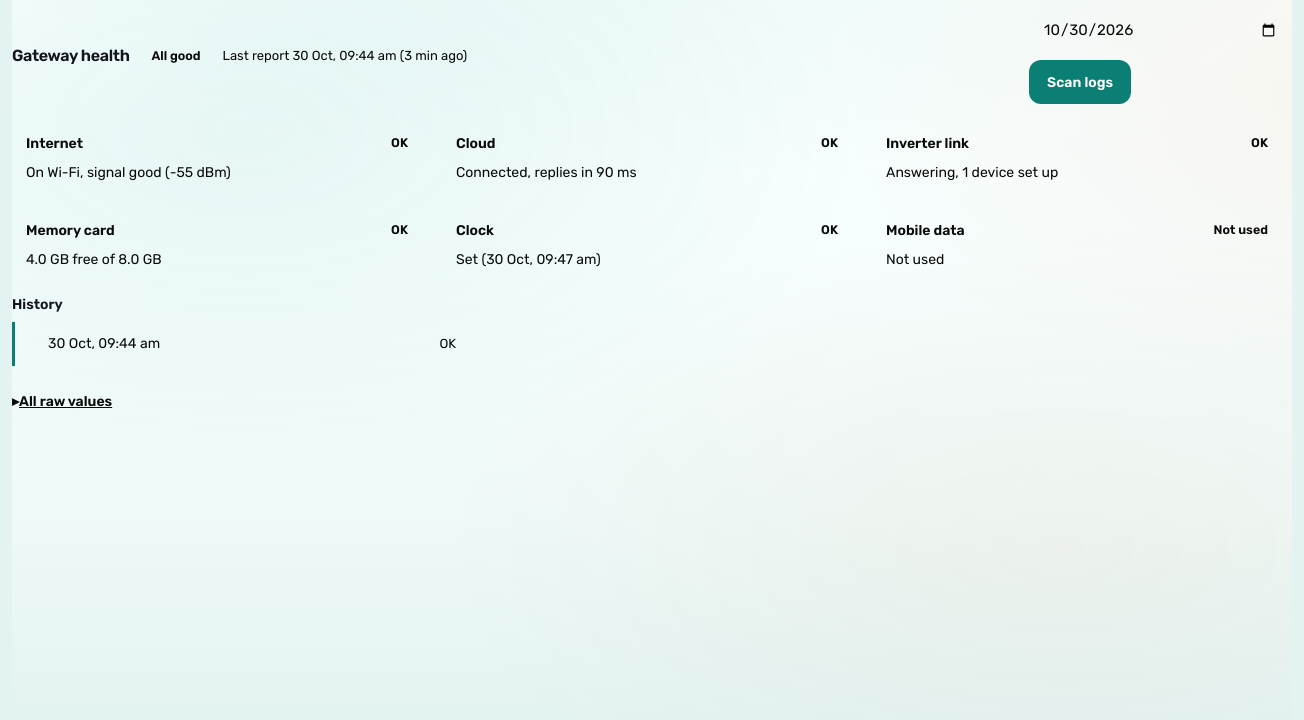
OpsHealth › HL5 no log files that day
The image size is (1304, 720).
Expected: the text "All good" is shown, [152,48,201,63]
Click the button "Scan logs" at (1080, 82), box [1029,60,1131,104]
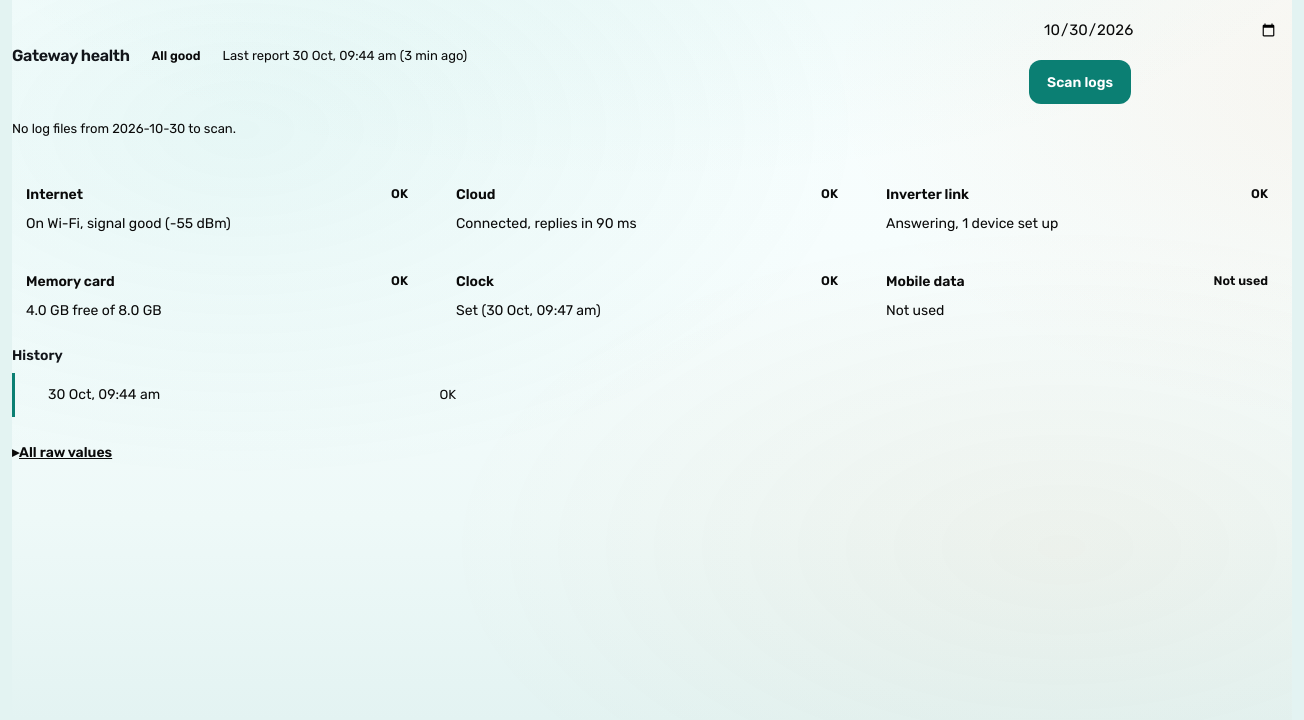
Now the text "No log files from 2026-10-30 to scan." is shown, box [12,121,236,136]
